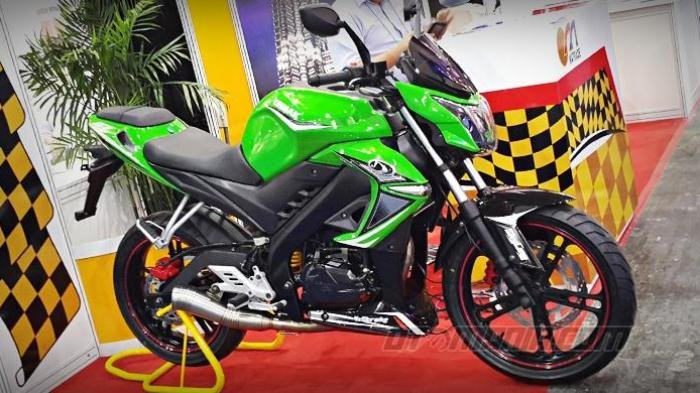motor: (81, 57, 638, 385)
